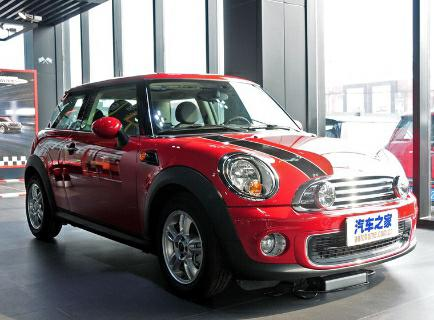MINI: (17, 72, 424, 298)
